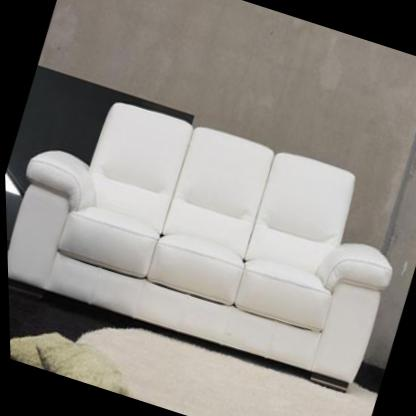Sofa: (2, 72, 416, 398)
